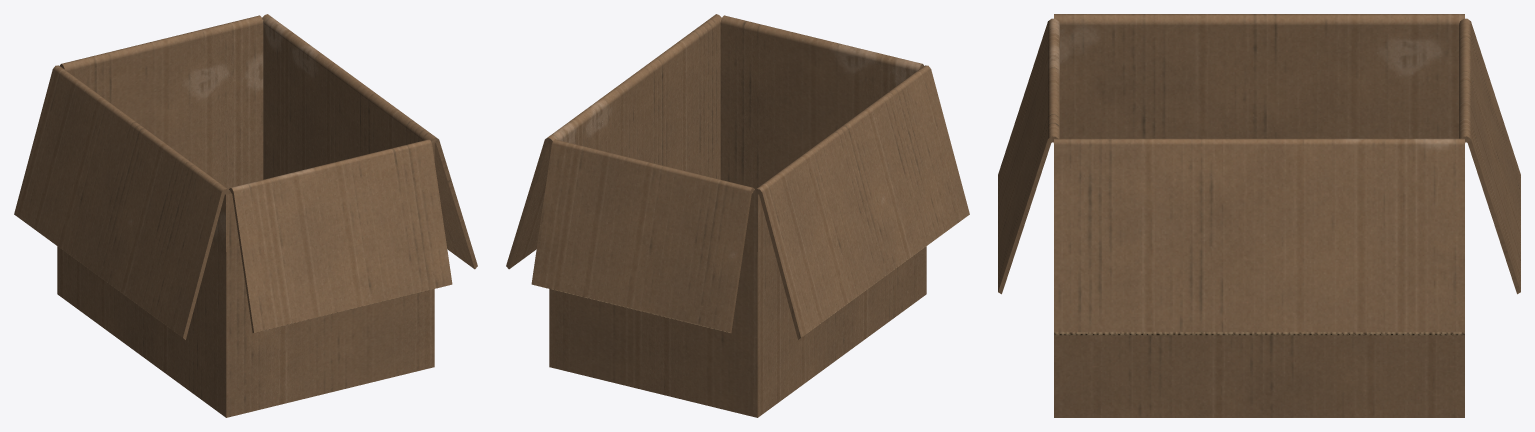
The model's file is SM_CardboardBox_01.fbx.
The picture shows the model from 3 angles, left to right: view 1: azimuth 30°, elevation 25°; view 2: azimuth 150°, elevation 25°; view 3: azimuth 270°, elevation 25°; orthographic projection. The views are drawn at different scales.
Parts seen in each view (by area): view 1: SM_CardboardBox_01_LOD0; view 2: SM_CardboardBox_01_LOD0; view 3: SM_CardboardBox_01_LOD0.
Part boxes in pixels (left/top/right/bottom): SM_CardboardBox_01_LOD0: left=14, top=14, right=477, bottom=417; SM_CardboardBox_01_LOD0: left=506, top=14, right=969, bottom=417; SM_CardboardBox_01_LOD0: left=998, top=14, right=1520, bottom=417.
Bounding box in the file's own units: 42.55 × 53.6 × 31.56.
1 material, 1 textured.
